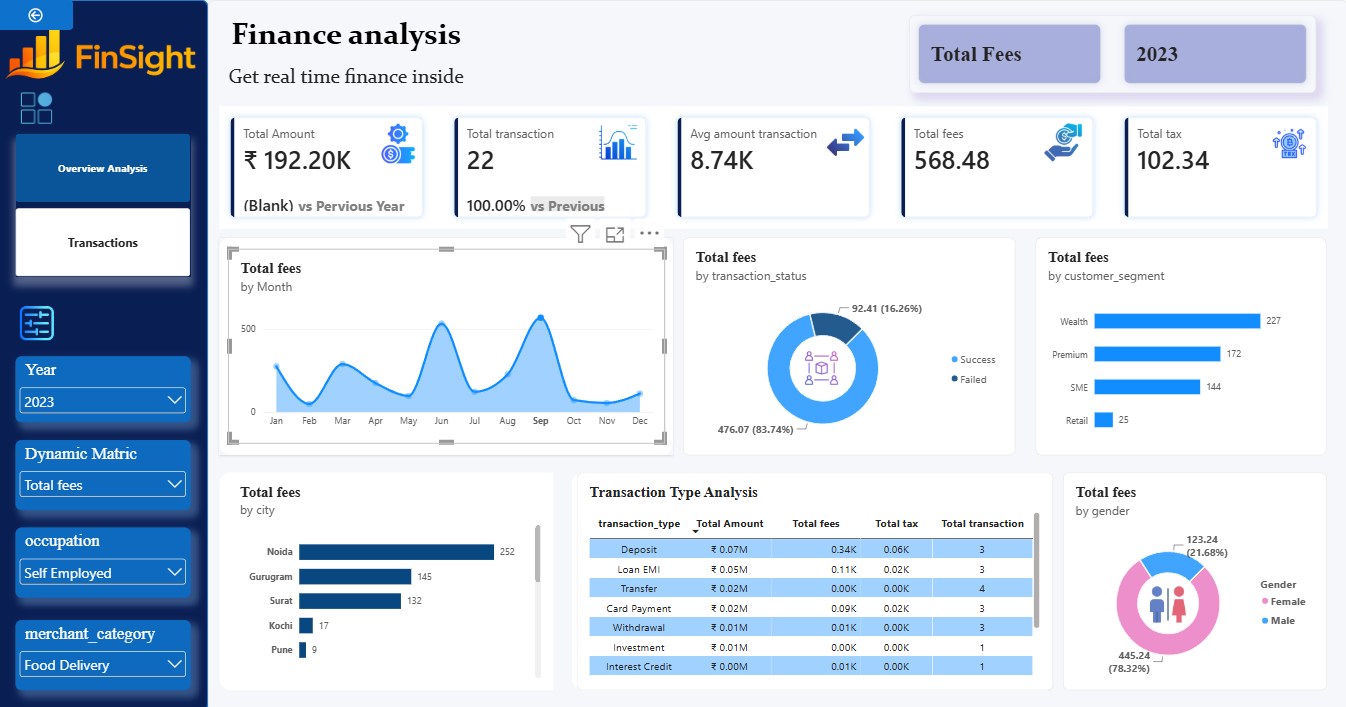

What the dashboard file says about the page in this screenshot:
{"tool":"powerbi","page":{"name":"Overview Analysis","canvas":[1800,950],"ordinal":0},"visuals":[{"type":"shape","box":[0,0,280,950],"z":0},{"type":"shape","box":[280,0,1520,950],"z":1000},{"type":"image","box":[0,10,280,122],"z":2000},{"type":"textbox","title":"Finance analysis","box":[188,20,552,122],"z":3000},{"type":"cardVisual","fields":{"Data":["finance_transactions.Total Amount","finance_transactions.Total transaction","finance_transactions.Avg amount tran","finance_transactions.Total fees","finance_transactions.Total tax"]},"box":[295,141.7,1481.7,163.3],"z":4000},{"type":"image","box":[496.2,151.5,73.1,53.1],"z":5000},{"type":"image","box":[797.5,151.2,73.1,53.1],"z":6000},{"type":"image","box":[1092.5,151.2,73.1,53.1],"z":7000},{"type":"image","box":[1383.3,151.7,73.1,53.1],"z":8000},{"type":"image","box":[1683.3,151.7,73.1,53.1],"z":9000},{"type":"shape","box":[295,316.7,605,290],"z":10000},{"type":"areaChart","fields":{"Category":["Calender Table.Month"],"Y":["finance_transactions.Total transaction"]},"box":[306,332,584,260],"z":11000},{"type":"cardVisual","fields":{"Data":["Min(Dynamic Matric 2.Dynmaic Title)","finance_transactions.Selected year"]},"box":[1215,20,542,104],"z":12000},{"type":"shape","box":[914,316,442,290],"z":13000},{"type":"donutChart","fields":{"Category":["finance_transactions.transaction_status"],"Y":["finance_transactions.Total transaction"]},"box":[913.3,316.7,443.3,290],"z":14000},{"type":"shape","box":[1383.3,316.7,388.3,290],"z":15000},{"type":"clusteredBarChart","fields":{"Category":["customers.customer_segment"],"Y":["finance_transactions.Total transaction"]},"box":[1383.3,316.7,388.3,290],"z":16000},{"type":"shape","box":[295,630,445,290],"z":17000},{"type":"clusteredBarChart","fields":{"Category":["customers.city"],"Y":["finance_transactions.Total transaction"]},"box":[306.7,630,433.3,290],"z":18000},{"type":"shape","box":[765,630,641.7,290],"z":19000},{"type":"tableEx","title":"Transaction Type Analysis","fields":{"Values":["finance_transactions.transaction_type","finance_transactions.Total Amount","finance_transactions.Total fees","finance_transactions.Total tax","finance_transactions.Total transaction"]},"box":[771.7,630,635,290],"z":20000},{"type":"shape","box":[1420,630,351.7,290],"z":21000},{"type":"donutChart","fields":{"Category":["customers.gender"],"Y":["finance_transactions.Total transaction"]},"box":[1420,630,351.7,290],"z":22000},{"type":"image","box":[1062.3,466.2,73.1,47.7],"z":23000},{"type":"image","box":[1530,778,60,55],"z":24000},{"type":"slicer","fields":{"Values":["Calender Table.Year"]},"box":[23.3,475,233.3,88.3],"z":25000},{"type":"slicer","fields":{"Values":["Dynamic Matric 2.Dynamic Matric"]},"box":[23.3,586.7,233.3,93.3],"z":26000},{"type":"slicer","fields":{"Values":["customers.occupation"]},"box":[23.3,703.3,233.3,93.3],"z":27000},{"type":"slicer","fields":{"Values":["finance_transactions.merchant_category"]},"box":[23.3,826.7,233.3,93.3],"z":28000},{"type":"pageNavigator","box":[23.3,178.3,233.3,190],"z":29000},{"type":"image","box":[23.3,123.3,56.7,41.7],"z":30000},{"type":"image","box":[23.3,405,56.7,51.7],"z":31000}]}

Visuals, with their boxes on the page's 1800x950 design canvas (x1, y1, x2, y2). These are canvas units, not pixel positions in the 1346x707 screenshot, which may show the page scaled, cropped or inside an application window:
shape: detection(0, 0, 280, 950)
shape: detection(280, 0, 1800, 950)
image: detection(0, 10, 280, 132)
"Finance analysis" textbox: detection(188, 20, 740, 142)
cardVisual - finance_transactions.Total Amount x finance_transactions.Total transaction: detection(295, 142, 1777, 305)
image: detection(496, 152, 569, 205)
image: detection(798, 151, 871, 204)
image: detection(1092, 151, 1166, 204)
image: detection(1383, 152, 1456, 205)
image: detection(1683, 152, 1756, 205)
shape: detection(295, 317, 900, 607)
areaChart - Calender Table.Month x finance_transactions.Total transaction: detection(306, 332, 890, 592)
cardVisual - Min(Dynamic Matric 2.Dynmaic Title) x finance_transactions.Selected year: detection(1215, 20, 1757, 124)
shape: detection(914, 316, 1356, 606)
donutChart - finance_transactions.transaction_status x finance_transactions.Total transaction: detection(913, 317, 1357, 607)
shape: detection(1383, 317, 1772, 607)
clusteredBarChart - customers.customer_segment x finance_transactions.Total transaction: detection(1383, 317, 1772, 607)
shape: detection(295, 630, 740, 920)
clusteredBarChart - customers.city x finance_transactions.Total transaction: detection(307, 630, 740, 920)
shape: detection(765, 630, 1407, 920)
"Transaction Type Analysis" tableEx: detection(772, 630, 1407, 920)
shape: detection(1420, 630, 1772, 920)
donutChart - customers.gender x finance_transactions.Total transaction: detection(1420, 630, 1772, 920)
image: detection(1062, 466, 1135, 514)
image: detection(1530, 778, 1590, 833)
slicer - Calender Table.Year: detection(23, 475, 257, 563)
slicer - Dynamic Matric 2.Dynamic Matric: detection(23, 587, 257, 680)
slicer - customers.occupation: detection(23, 703, 257, 797)
slicer - finance_transactions.merchant_category: detection(23, 827, 257, 920)
pageNavigator: detection(23, 178, 257, 368)
image: detection(23, 123, 80, 165)
image: detection(23, 405, 80, 457)
